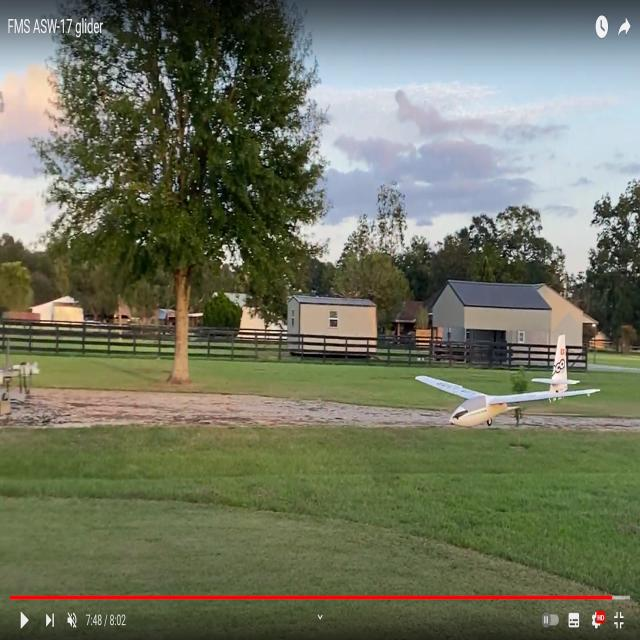iha: (419, 369, 609, 397)
